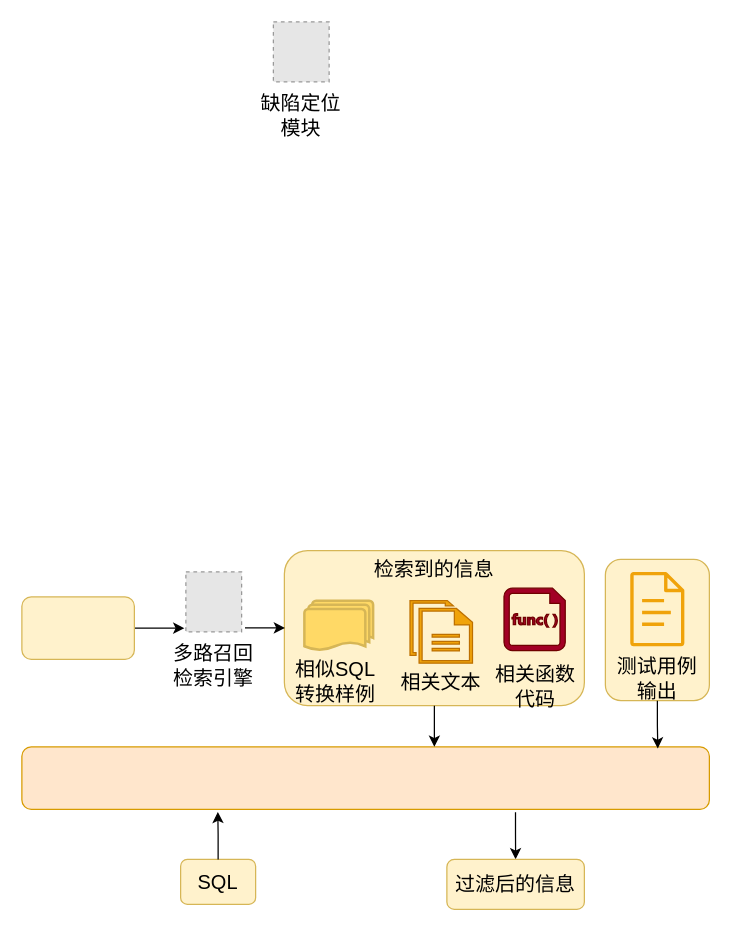
Some shapes in this 731 by 931 pixel diagram are drawn without their labels. Grey dashed boxes stand in for pictures. The shapes that lost their labels are listed below. From the top down, each one's box as (x1, y1, x2, y2) in pixels, then its label:
(21, 596, 134, 659): 需要检索的信息类型
(21, 746, 709, 809): 过滤器
